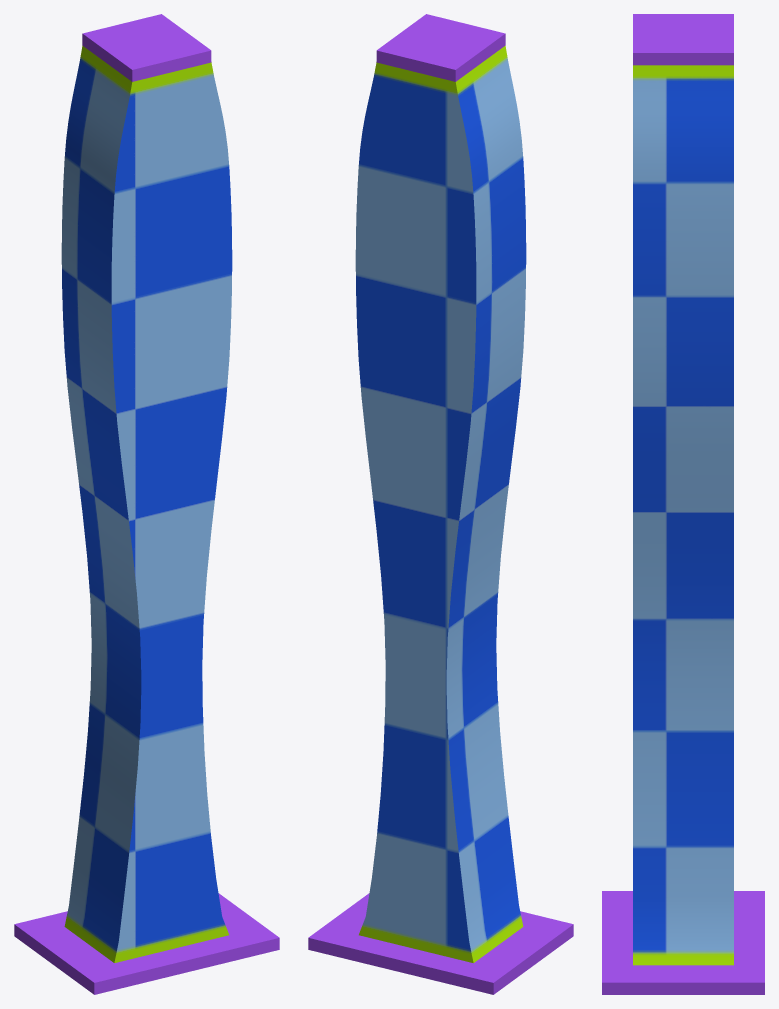
Rendered from LightFloor01_3.FBX.
3 views of the same model, side by side, from view 1: azimuth 30°, elevation 25°; view 2: azimuth 150°, elevation 25°; view 3: azimuth 270°, elevation 25° (orthographic).
Visible parts, largest first — view 1: LightFloor01_3; view 2: LightFloor01_3; view 3: LightFloor01_3.
Boxes of the visible parts, box(x1,y1,x2,y2) form: LightFloor01_3: box(14, 14, 279, 994); LightFloor01_3: box(308, 14, 573, 994); LightFloor01_3: box(602, 14, 764, 994).
Size of the model in its own units: 32.21 by 150 by 24.15.
